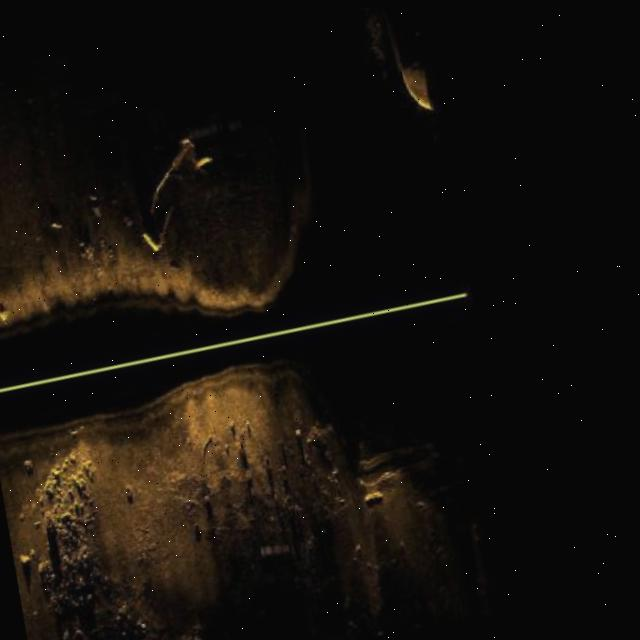mine: (128, 185, 166, 257)
